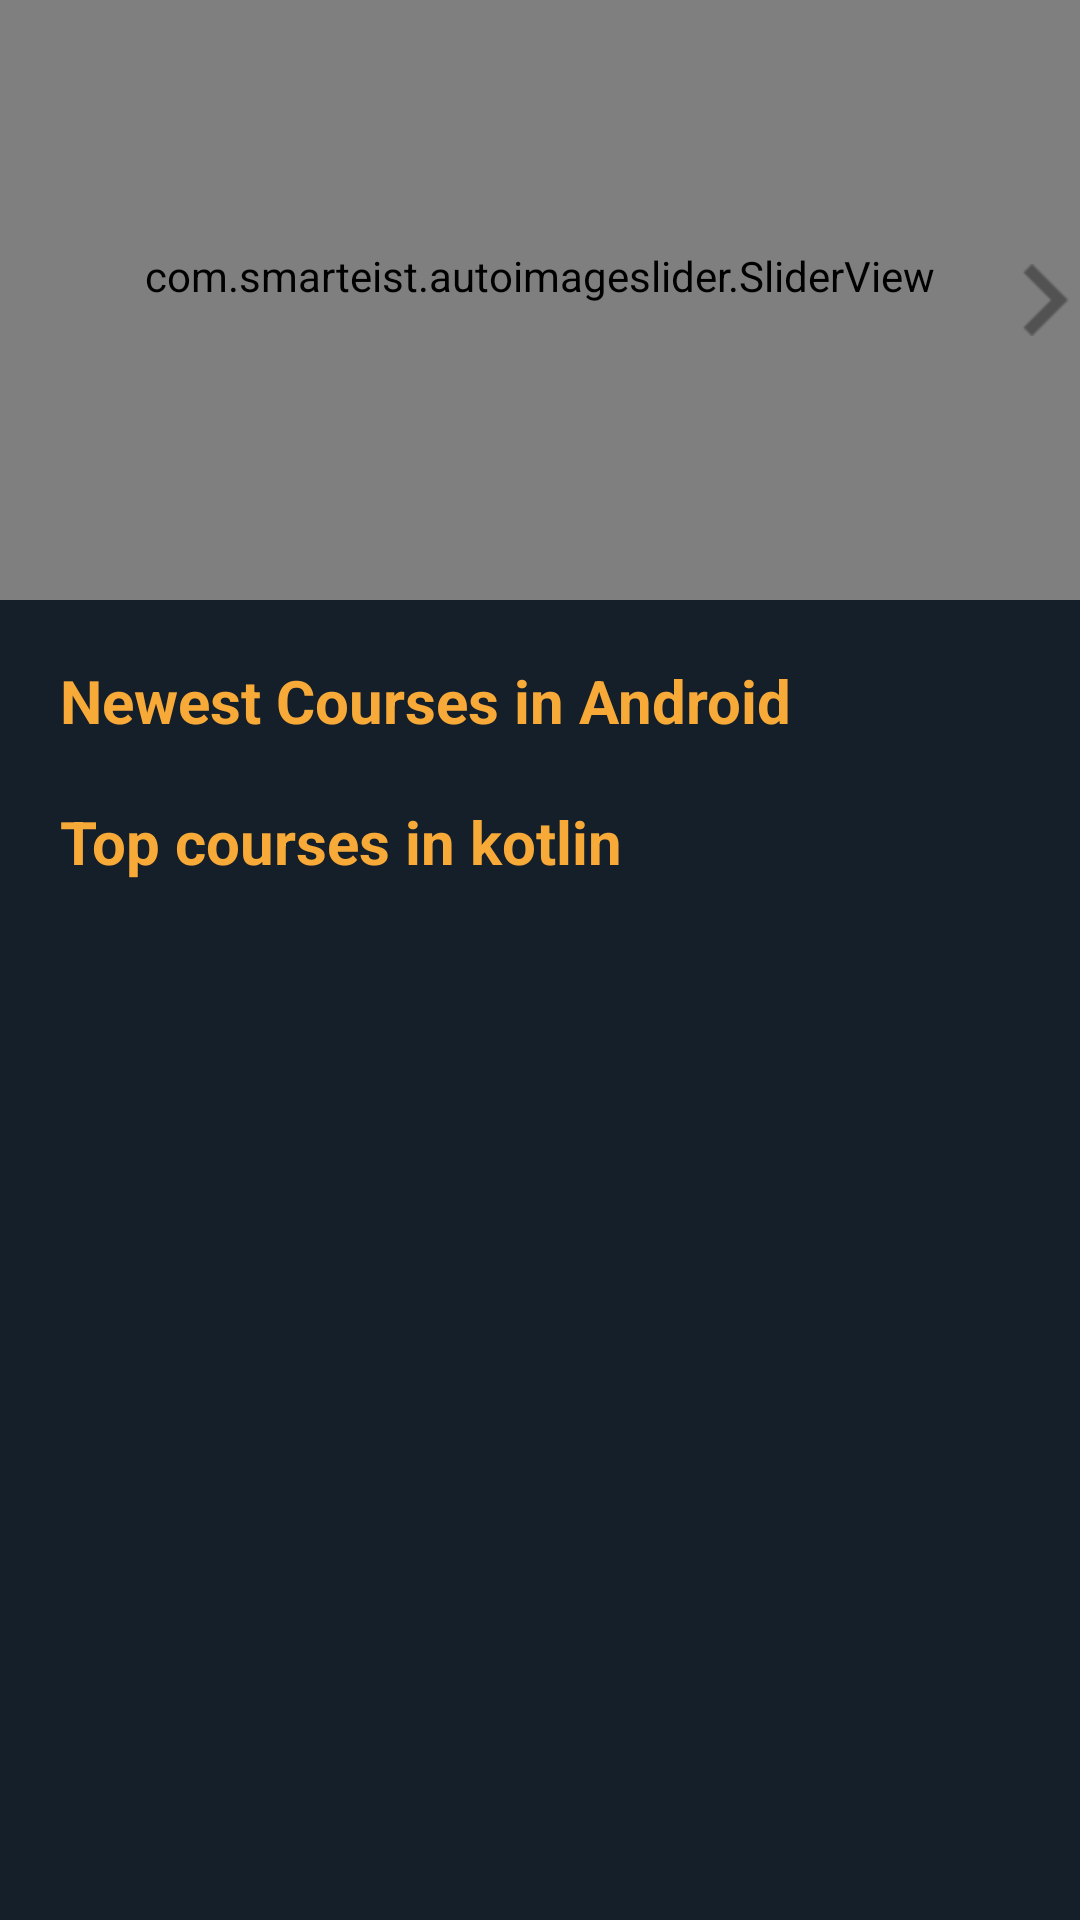

Icon click points for this 1080 × 1920 phone screenshot, format (x,y):
next: (1045,300)
